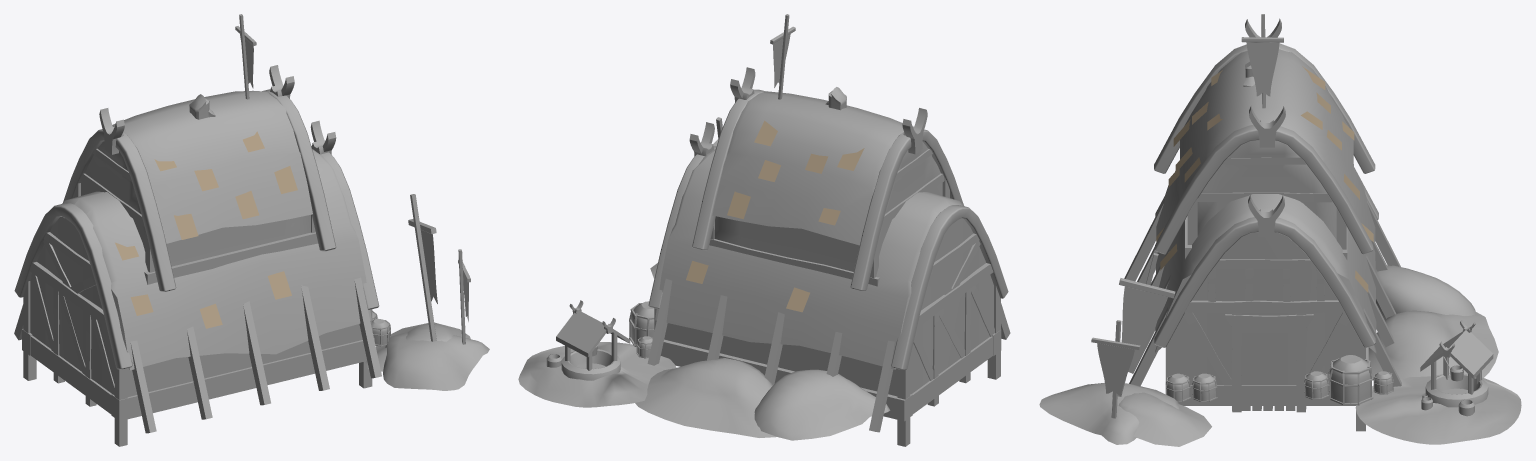
Rendered from HomeBase_1.fbx.
3 renders of one model, left to right at view 1: azimuth 30°, elevation 25°; view 2: azimuth 150°, elevation 25°; view 3: azimuth 270°, elevation 25°, orthographic. The views are drawn at different scales.
Parts seen in each view (by area): view 1: Home_Base4; view 2: Home_Base4; view 3: Home_Base4.
Boxes of the visible parts, x1=… form: Home_Base4: x1=14, y1=14, x2=489, y2=446; Home_Base4: x1=518, y1=14, x2=1010, y2=446; Home_Base4: x1=1039, y1=14, x2=1521, y2=446.
Bounding box in the file's own units: 87.59 × 85.86 × 100.
